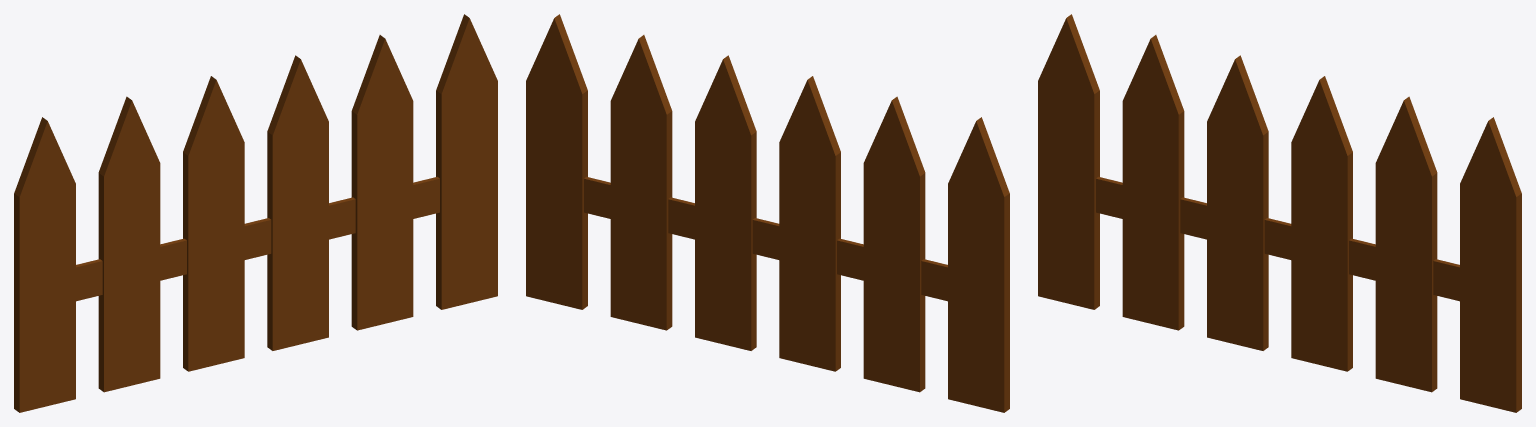
File: Fence.fbx
3 renders of one model, left to right at view 1: azimuth 30°, elevation 25°; view 2: azimuth 150°, elevation 25°; view 3: azimuth 330°, elevation 25°, orthographic.
Parts seen in each view (by area): view 1: Fence; view 2: Fence; view 3: Fence.
Boxes of the visible parts, bbox=[...] form: Fence: bbox=[14, 14, 497, 412]; Fence: bbox=[526, 14, 1009, 412]; Fence: bbox=[1038, 14, 1521, 412].
Bounding box in the file's own units: 1.9 × 0.0377 × 1.08.
